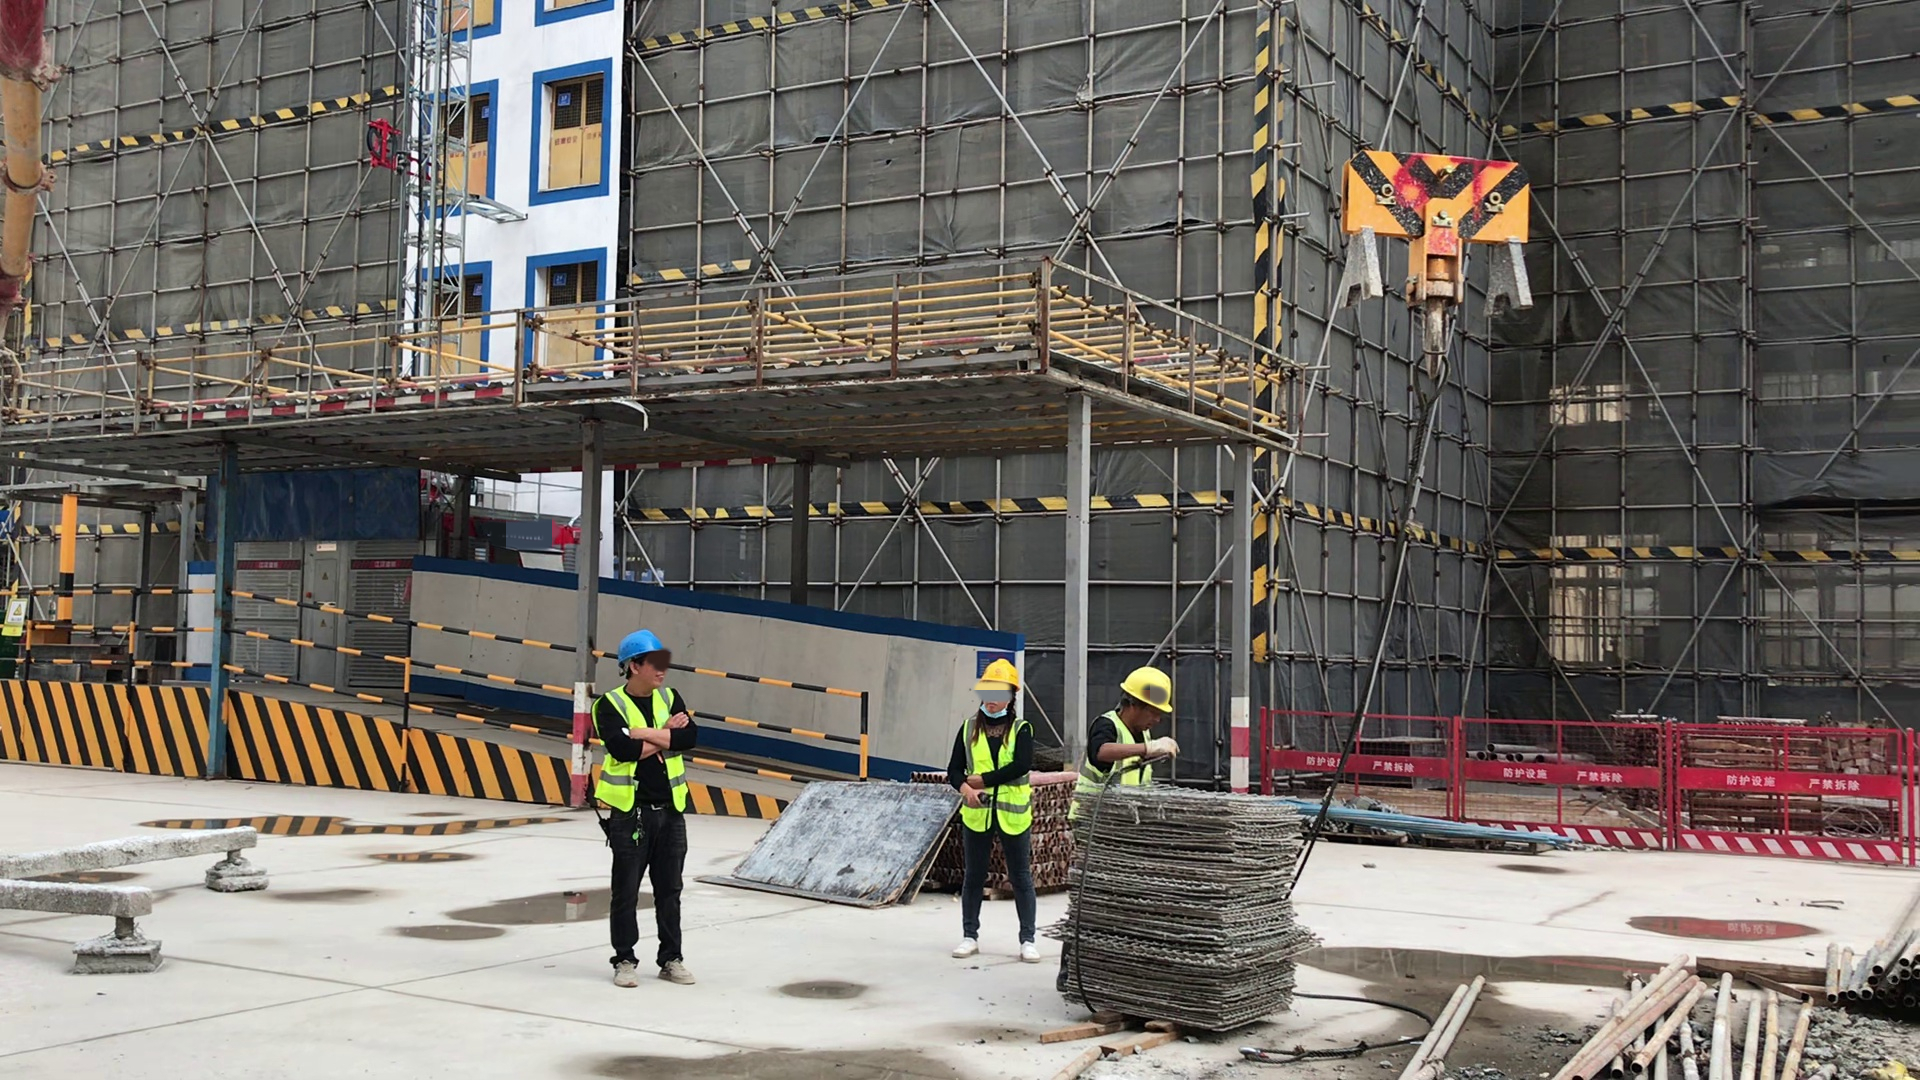fence: (1558, 712, 1919, 875), (244, 582, 558, 756), (1389, 704, 1556, 817), (702, 658, 871, 769), (82, 578, 208, 676)
helmet: (1119, 668, 1180, 715), (614, 628, 674, 674), (980, 661, 1022, 695)
hook: (1341, 145, 1540, 385)
person: (581, 628, 707, 995), (937, 658, 1049, 967), (1080, 665, 1186, 789)
scaffold: (1814, 893, 1920, 1004)
slogan: (7, 600, 29, 637), (253, 558, 281, 571), (370, 559, 401, 570)
vest: (603, 686, 689, 819), (955, 716, 1034, 837), (1077, 713, 1164, 789)
